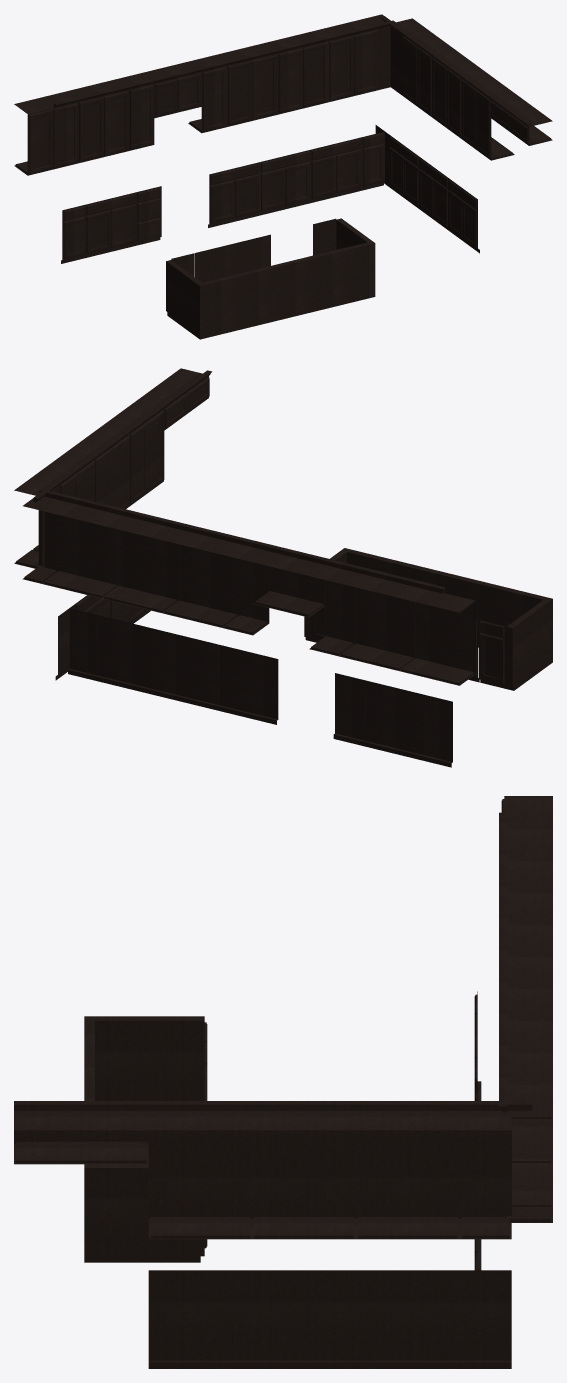
File: cabinets_espresso.glb
The picture shows the model from 3 angles, top to bottom: view 1: azimuth 30°, elevation 25°; view 2: azimuth 150°, elevation 25°; view 3: azimuth 270°, elevation 25°; orthographic projection. The views are drawn at different scales.
Visible parts, largest first — view 1: Cabinet_espresso.001; view 2: Cabinet_espresso.001; view 3: Cabinet_espresso.001.
Part boxes in pixels (left/top/right/bottom): Cabinet_espresso.001: left=14, top=14, right=552, bottom=339; Cabinet_espresso.001: left=14, top=368, right=552, bottom=767; Cabinet_espresso.001: left=14, top=796, right=552, bottom=1368.
Bounding box in the file's own units: 7.63 × 2.93 × 5.2.
1 material, 1 textured.
